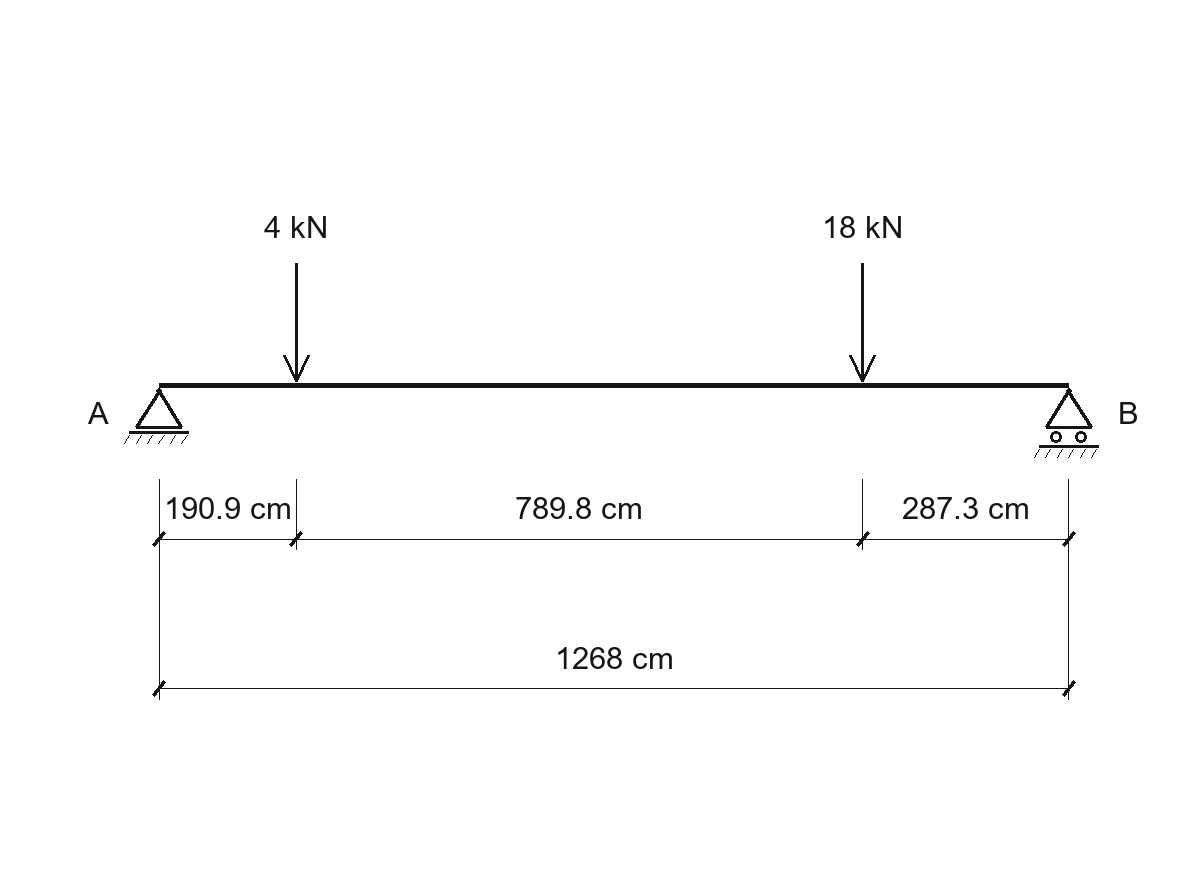pin_support: (124, 388, 189, 444)
point_load: (283, 263, 310, 382), (849, 263, 876, 382)
roller_support: (1034, 388, 1099, 458)
